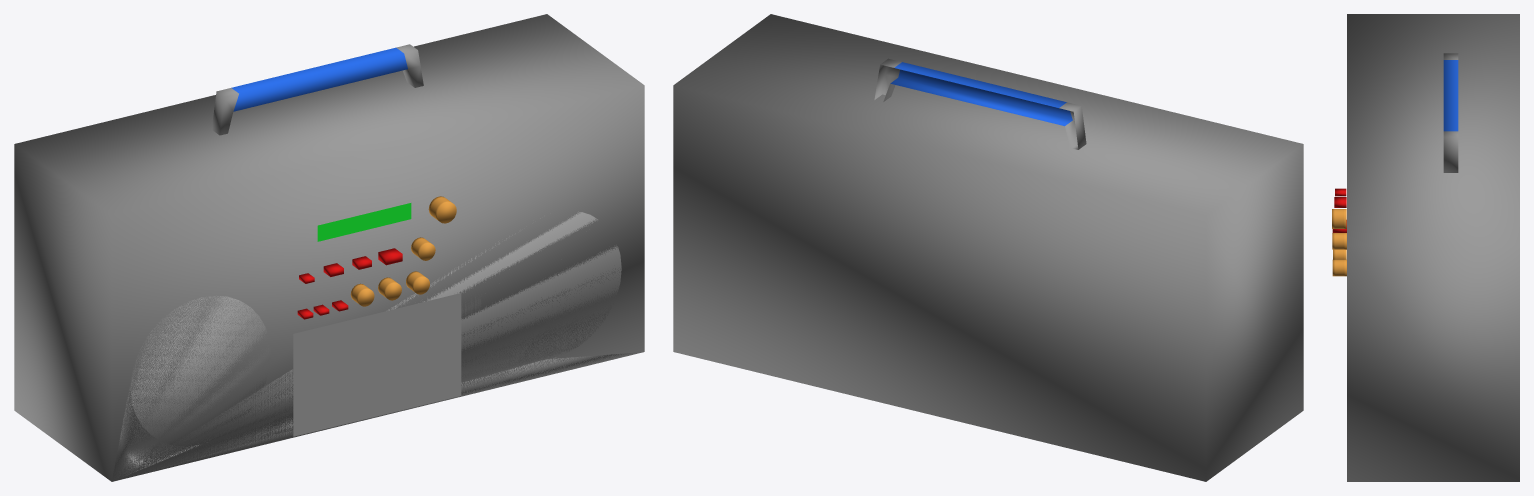
The model's file is GethoBlasterTropPoly.obj.
3 views of the same model, side by side, from view 1: azimuth 30°, elevation 25°; view 2: azimuth 150°, elevation 25°; view 3: azimuth 270°, elevation 25° (orthographic). The views are drawn at different scales.
Parts seen in each view (by area): view 1: Sphere003; view 2: Sphere003; view 3: Sphere003.
Boxes of the visible parts, x1,y1,x2,y2 form: Sphere003: (14, 14, 644, 481); Sphere003: (673, 14, 1303, 481); Sphere003: (1332, 14, 1519, 481).
Bounding box in the file's own units: 36.94 × 20.14 × 12.7.
